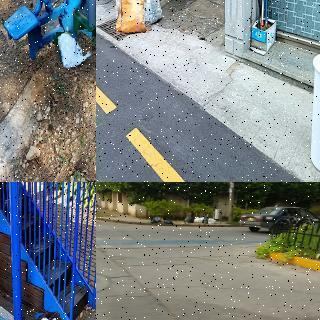Garbage: (55, 31, 93, 73), (113, 0, 149, 34), (139, 0, 165, 25), (36, 312, 60, 320), (151, 216, 164, 224), (184, 216, 195, 223), (163, 218, 174, 224), (194, 217, 203, 223), (208, 218, 217, 224), (203, 215, 209, 224)
